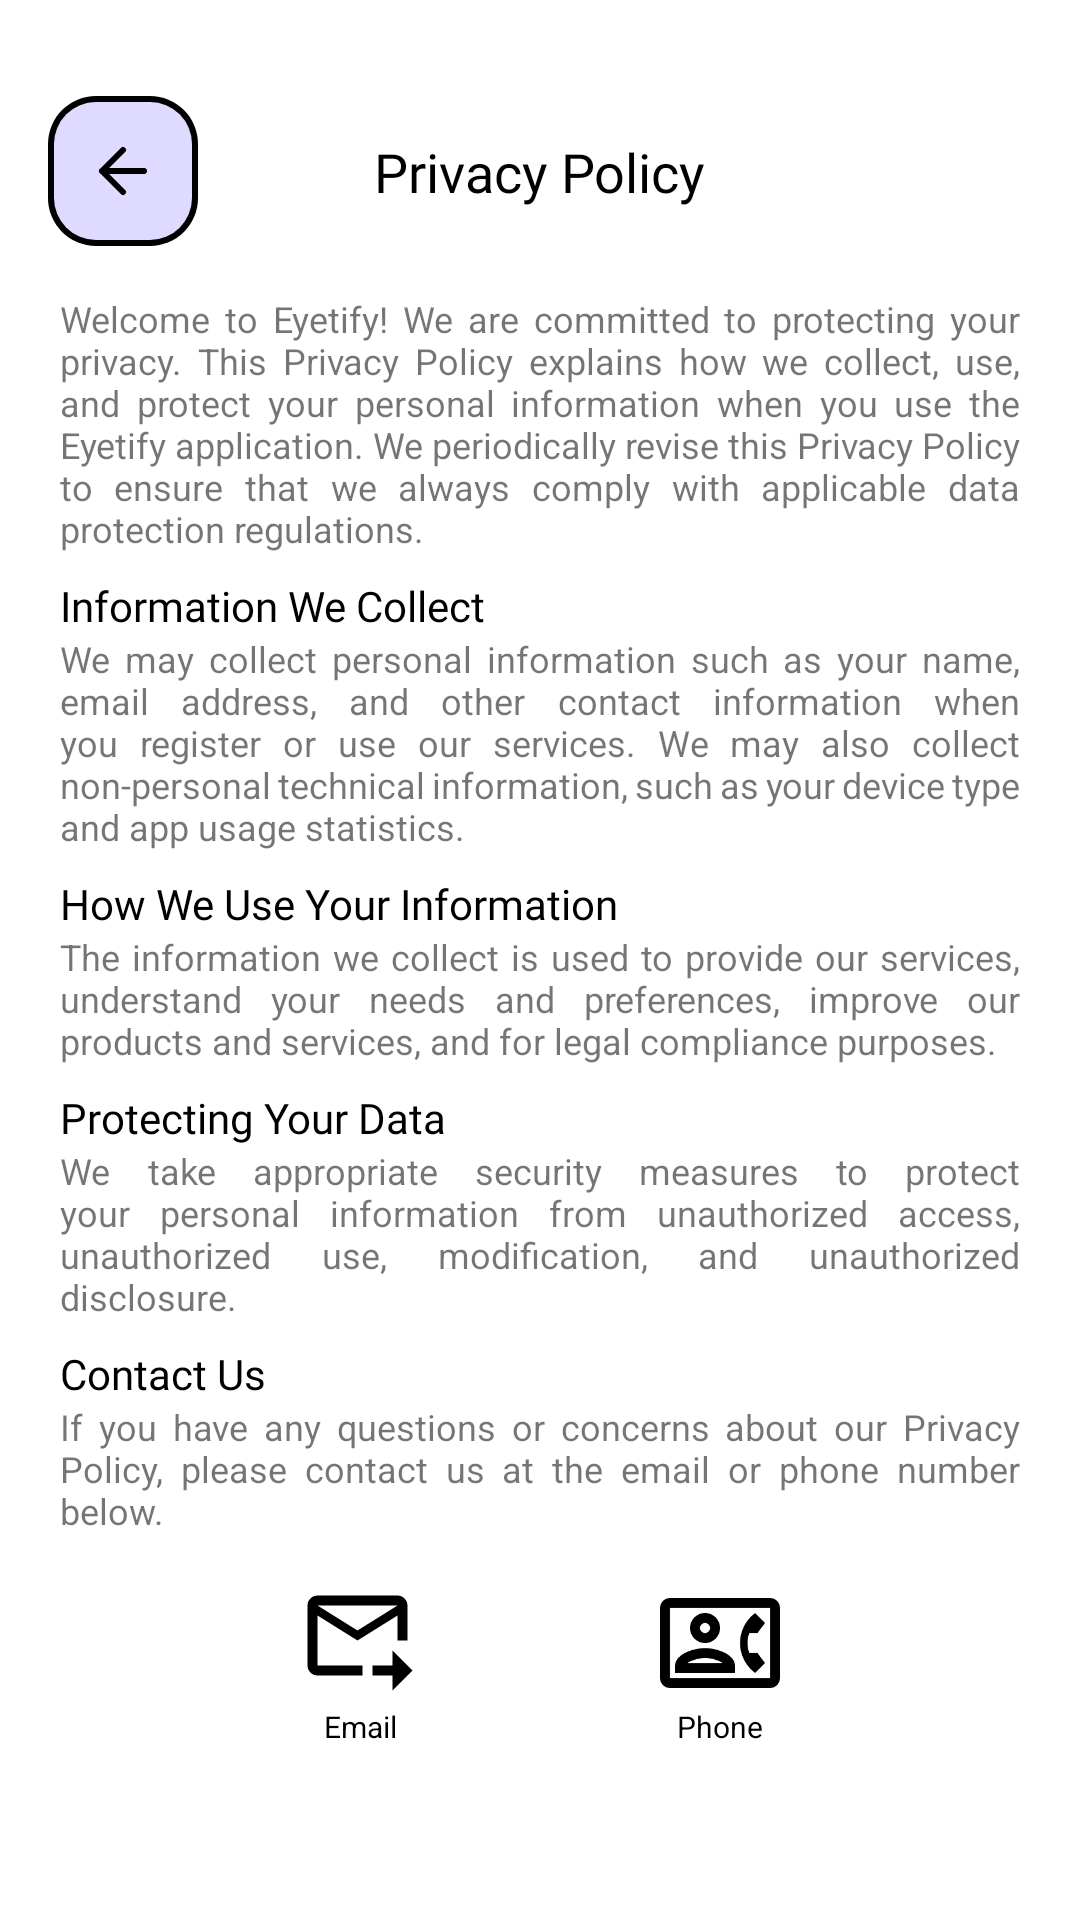

Locate icon controls on the screen. Image size 1080px x 1920px, boxes as (x1, y1, x2, y2).
arrow back: (48, 96, 198, 246)
